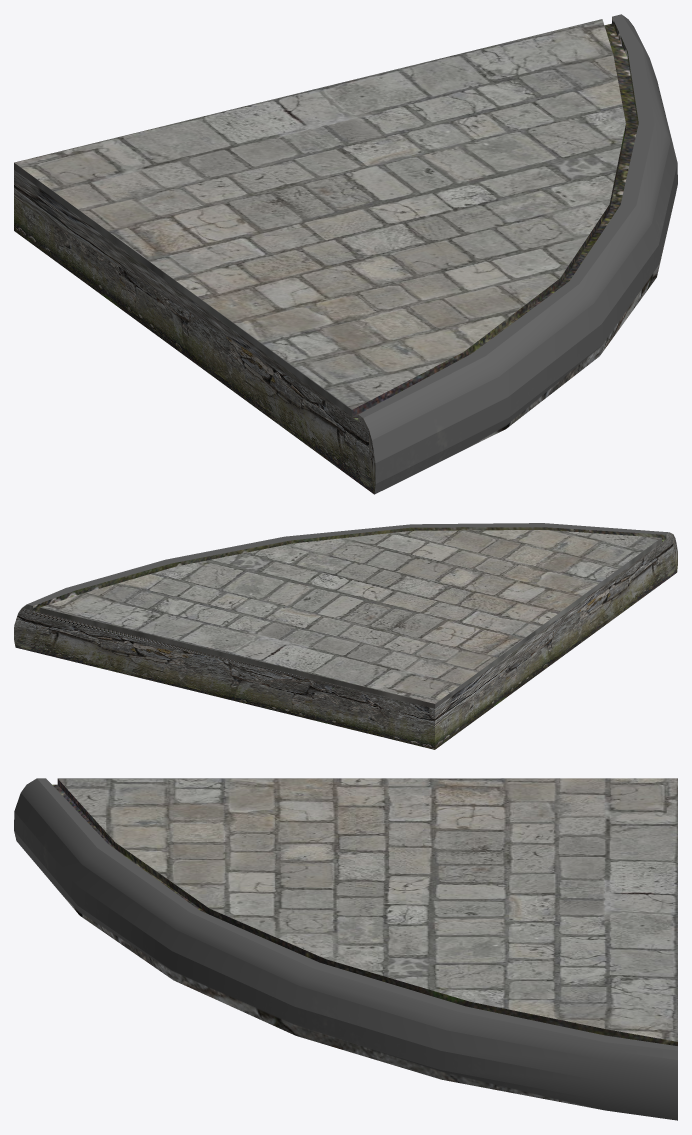
The model's file is PavementPieces05.fbx.
The picture shows the model from 3 angles, top to bottom: view 1: azimuth 30°, elevation 25°; view 2: azimuth 150°, elevation 25°; view 3: azimuth 270°, elevation 25°; orthographic projection. The views are drawn at different scales.
Parts seen in each view (by area): view 1: PavementPieces05; view 2: PavementPieces05; view 3: PavementPieces05.
Boxes of the visible parts, box(x1,y1,x2,y2) form: PavementPieces05: box(14, 14, 677, 494); PavementPieces05: box(14, 523, 677, 749); PavementPieces05: box(14, 778, 677, 1120).
Bounding box in the file's own units: 130 × 13.59 × 130.
